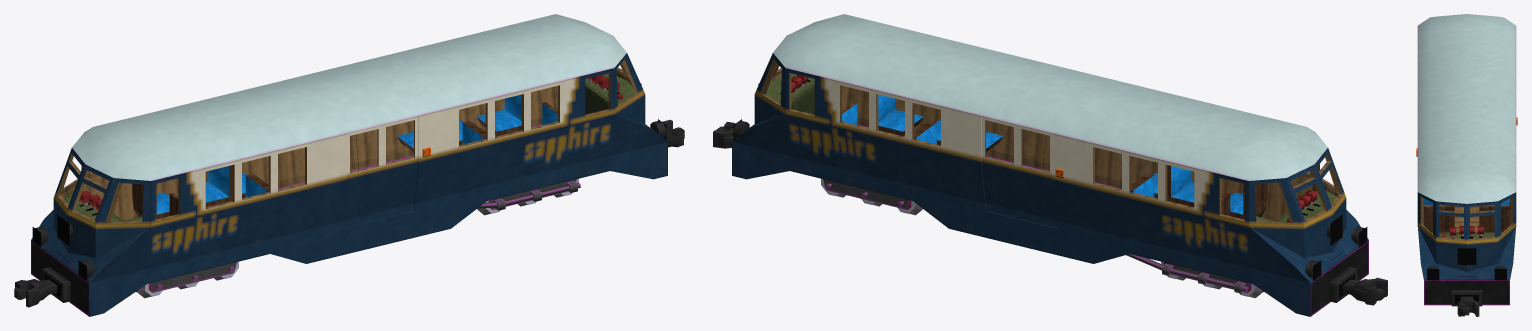
The model's file is sapphire_local.obj.
3 views of the same model, side by side, from view 1: azimuth 30°, elevation 25°; view 2: azimuth 150°, elevation 25°; view 3: azimuth 270°, elevation 25° (orthographic). The views are drawn at different scales.
Parts seen in each view (by area): view 1: FRAME_ext_roof, FRAME_ext_body.002, FRAME_ext_body.001, FRAME_int_body.001, FRAME_int_body.002, DOOR_5_TL_-0.5_X_CG_doorleft_NOTOUCH, DOOR_6_TL_0.5_X_CG_doorleft_NOTOUCH, bench.007, controls.001, bench, vBogie2, COUPLED_FRONT_1_HIDE (+4 smaller); view 2: FRAME_ext_roof, FRAME_ext_body.002, FRAME_ext_body.001, FRAME_int_body.001, FRAME_int_body.002, DOOR_3_TL_-0.5_X_CG_doorright_NOTOUCH, DOOR_4_TL_0.5_X_CG_doorright_NOTOUCH, bench.006, bench.001, controls.001, COUPLED_FRONT_1_HIDE, vBogie1 (+5 smaller); view 3: FRAME_ext_roof, FRAME_ext_body.001, bench.001, bench, FRAME_int_body.001, COUPLED_REAR_4_HIDE_INVERT, COUPLER_ENGAGED_REAR_2_TOGGLE_LABEL_Uncouple, FRAME_int_floor, HEADLIGHT_4_0xFFF0E1_LCG_REVERSERBACKWARD, controls.001, HEADLIGHT_6_0xFF0000_LCG_REVERSERFORWARD, HEADLIGHT_5_0xFF0000_LCG_REVERSERFORWARD.
Boxes of the visible parts, x1=… form: FRAME_ext_roof: x1=72, y1=14, x2=626, y2=180; FRAME_ext_body.002: x1=31, y1=133, x2=378, y2=316; FRAME_ext_body.001: x1=378, y1=53, x2=667, y2=246; FRAME_int_body.001: x1=355, y1=59, x2=638, y2=169; FRAME_int_body.002: x1=56, y1=147, x2=306, y2=223; DOOR_5_TL_-0.5_X_CG_doorleft_NOTOUCH: x1=342, y1=125, x2=382, y2=227; DOOR_6_TL_0.5_X_CG_doorleft_NOTOUCH: x1=378, y1=116, x2=418, y2=219; bench.007: x1=205, y1=165, x2=246, y2=207; controls.001: x1=585, y1=73, x2=635, y2=114; bench: x1=476, y1=94, x2=521, y2=136; vBogie2: x1=149, y1=262, x2=236, y2=292; COUPLED_FRONT_1_HIDE: x1=14, y1=279, x2=57, y2=307; FRAME_ext_roof: x1=773, y1=14, x2=1327, y2=180; FRAME_ext_body.002: x1=1021, y1=133, x2=1368, y2=316; FRAME_ext_body.001: x1=732, y1=53, x2=1021, y2=246; FRAME_int_body.001: x1=760, y1=59, x2=1044, y2=169; FRAME_int_body.002: x1=1093, y1=147, x2=1343, y2=223; DOOR_3_TL_-0.5_X_CG_doorright_NOTOUCH: x1=1017, y1=125, x2=1057, y2=227; DOOR_4_TL_0.5_X_CG_doorright_NOTOUCH: x1=981, y1=116, x2=1021, y2=219; bench.006: x1=1153, y1=165, x2=1194, y2=207; bench.001: x1=878, y1=94, x2=923, y2=136; controls.001: x1=766, y1=73, x2=814, y2=114; COUPLED_FRONT_1_HIDE: x1=1342, y1=277, x2=1387, y2=305; vBogie1: x1=823, y1=179, x2=910, y2=209; FRAME_ext_roof: x1=1417, y1=14, x2=1516, y2=203; FRAME_ext_body.001: x1=1417, y1=192, x2=1516, y2=305; bench.001: x1=1424, y1=206, x2=1454, y2=232; bench: x1=1479, y1=206, x2=1509, y2=232; FRAME_int_body.001: x1=1420, y1=197, x2=1513, y2=240; COUPLED_REAR_4_HIDE_INVERT: x1=1457, y1=296, x2=1479, y2=316; COUPLER_ENGAGED_REAR_2_TOGGLE_LABEL_Uncouple: x1=1451, y1=290, x2=1482, y2=306; FRAME_int_floor: x1=1454, y1=206, x2=1479, y2=232; HEADLIGHT_4_0xFFF0E1_LCG_REVERSERBACKWARD: x1=1457, y1=248, x2=1476, y2=264; controls.001: x1=1431, y1=232, x2=1501, y2=238; HEADLIGHT_6_0xFF0000_LCG_REVERSERFORWARD: x1=1494, y1=269, x2=1506, y2=280; HEADLIGHT_5_0xFF0000_LCG_REVERSERFORWARD: x1=1427, y1=269, x2=1439, y2=280.
Size of the model in its own units: 11.5 by 2.56 by 2.06.
Materials: 8 (8 with a texture image).
